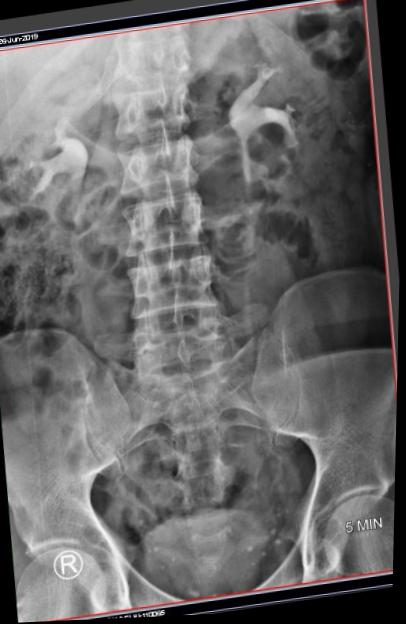vertebrae: (116, 72, 199, 135)
